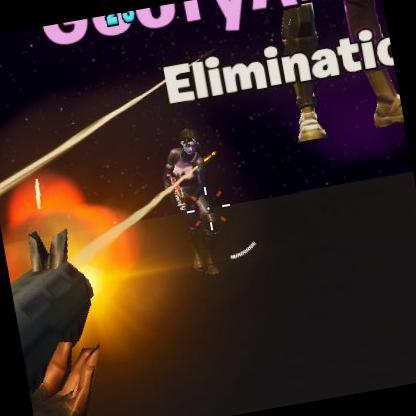person: (156, 127, 235, 278)
